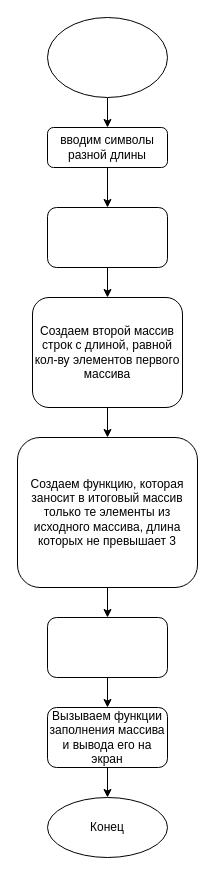
Image size: 215x875. Some labels were removed from this diagram. Each missing label, with the centre of its shape:
"заносим введенные симоволы в массив строк" belongs at point (107, 237).
"начало" belongs at point (107, 57).
"Создаем фуннцию вывода массива на экран" belongs at point (107, 647).
